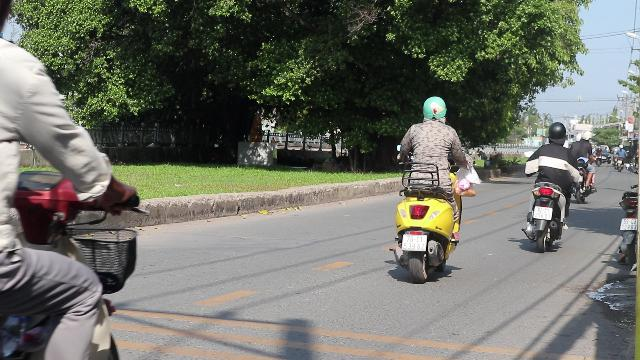helmet: (420, 95, 446, 121), (546, 121, 568, 142)
licenseplate: (402, 234, 426, 251), (534, 206, 552, 220), (620, 218, 638, 228)
motorcyclist: (385, 95, 479, 285), (520, 120, 576, 252), (615, 110, 639, 272)
